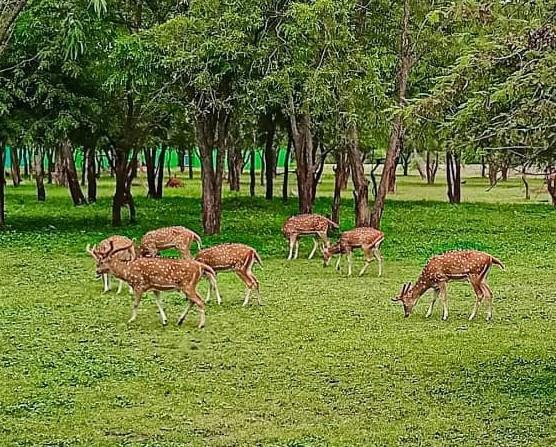Deer: (87, 243, 217, 327), (392, 250, 504, 319), (196, 243, 262, 305), (323, 227, 383, 275), (282, 214, 338, 259), (138, 226, 201, 257)
